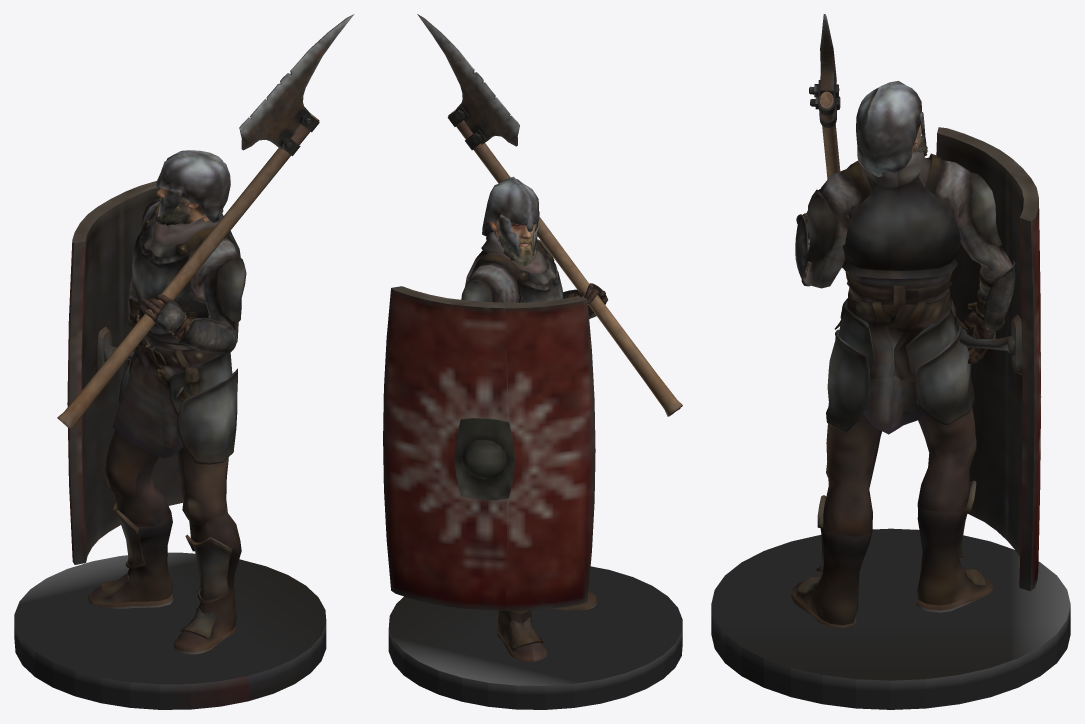
The picture shows the model from 3 angles, left to right: view 1: azimuth 30°, elevation 25°; view 2: azimuth 150°, elevation 25°; view 3: azimuth 270°, elevation 25°; orthographic projection. The views are drawn at different scales.
Parts seen in each view (by area): view 1: twin_dragon_greatshield.smd; view 2: twin_dragon_greatshield.smd; view 3: twin_dragon_greatshield.smd.
Part boxes in pixels (<box>): twin_dragon_greatshield.smd: <box>14,14,354,709</box>; twin_dragon_greatshield.smd: <box>383,14,682,709</box>; twin_dragon_greatshield.smd: <box>711,14,1070,709</box>.
Bounding box in the file's own units: 1.07 × 2.17 × 1.
Materials: 1 (1 with a texture image).
